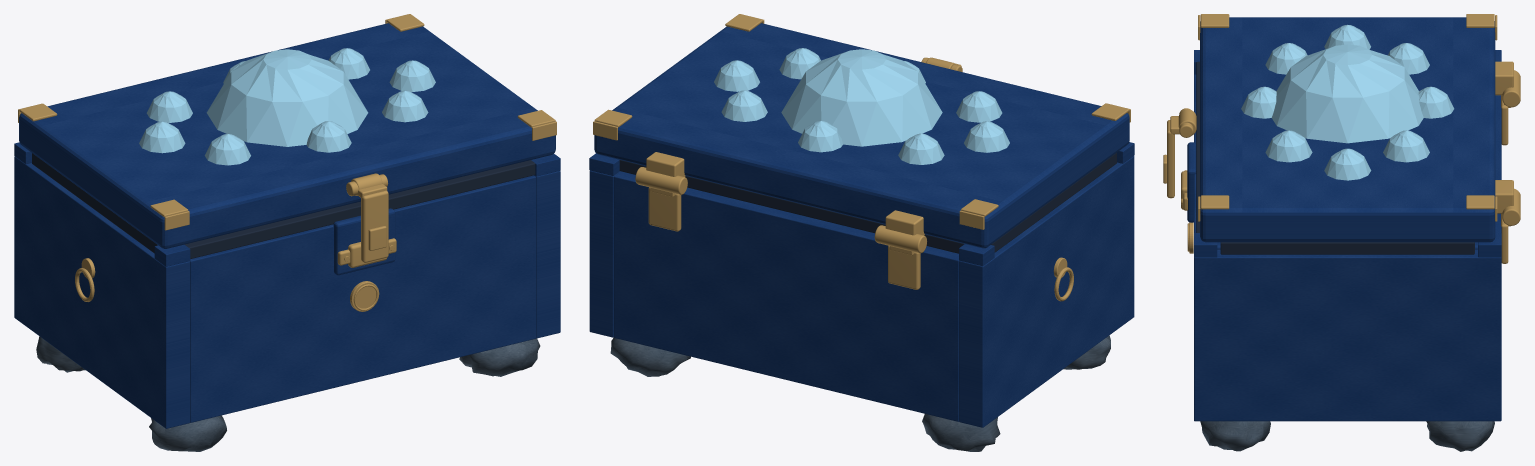
Rendered from czechia.glb.
3 views of the same model, side by side, from view 1: azimuth 30°, elevation 25°; view 2: azimuth 150°, elevation 25°; view 3: azimuth 270°, elevation 25° (orthographic).
Visible parts, largest first — view 1: Cobalt / front rear, Lid / polished slab, Cobalt / sides, Cut crystal / central rosette, Mineral seam / long, Cobalt / sides.001, Granite foot, Granite foot.002, Latch / lifting hasp, Cedar / clasp seat, Mineral seam / side, Cut crystal / satellite 3 (+9 smaller); view 2: Cobalt / front rear.001, Lid / polished slab, Cobalt / sides, Cut crystal / central rosette, Cobalt / sides.001, Mineral seam / long.001, Granite foot.001, Granite foot.003, Mineral seam / side, Hinge / fixed mount.001, Hinge / fixed mount, Cut crystal / satellite 5 (+13 smaller); view 3: Cobalt / sides.001, Lid / polished slab, Cut crystal / central rosette, Mineral seam / side.001, Granite foot.002, Granite foot.003, Cut crystal / satellite 0, Cut crystal / satellite 7, Cut crystal / satellite 1, Cut crystal / satellite 6, Cut crystal / satellite 2, Cut crystal / satellite 5 (+16 smaller).
Part boxes in pixels (bbox=[...]): Cobalt / front rear: bbox=[190, 175, 536, 422]; Lid / polished slab: bbox=[19, 23, 555, 248]; Cobalt / sides: bbox=[14, 156, 189, 428]; Cut crystal / central rosette: bbox=[206, 49, 368, 146]; Mineral seam / long: bbox=[184, 160, 535, 258]; Cobalt / sides.001: bbox=[534, 171, 560, 338]; Granite foot: bbox=[149, 415, 226, 451]; Granite foot.002: bbox=[459, 338, 540, 376]; Latch / lifting hasp: bbox=[361, 190, 388, 262]; Cedar / clasp seat: bbox=[333, 208, 395, 275]; Mineral seam / side: bbox=[32, 153, 157, 253]; Cut crystal / satellite 3: bbox=[146, 91, 192, 122]; Cobalt / front rear.001: bbox=[614, 171, 959, 421]; Lid / polished slab: bbox=[594, 23, 1129, 248]; Cobalt / sides: bbox=[959, 156, 1134, 427]; Cut crystal / central rosette: bbox=[781, 49, 942, 146]; Cobalt / sides.001: bbox=[589, 170, 620, 337]; Mineral seam / long.001: bbox=[619, 160, 964, 253]; Granite foot.001: bbox=[922, 414, 1000, 451]; Granite foot.003: bbox=[610, 337, 690, 376]; Mineral seam / side: bbox=[991, 153, 1116, 252]; Hinge / fixed mount.001: bbox=[648, 187, 681, 231]; Hinge / fixed mount: bbox=[888, 245, 920, 289]; Cut crystal / satellite 5: bbox=[956, 91, 1002, 122]; Cobalt / sides.001: bbox=[1194, 249, 1501, 421]; Lid / polished slab: bbox=[1200, 17, 1495, 242]; Cut crystal / central rosette: bbox=[1271, 44, 1423, 143]; Mineral seam / side.001: bbox=[1220, 242, 1474, 254]; Granite foot.002: bbox=[1200, 421, 1270, 451]; Granite foot.003: bbox=[1426, 421, 1494, 451]; Cut crystal / satellite 0: bbox=[1324, 148, 1371, 180]; Cut crystal / satellite 7: bbox=[1265, 130, 1312, 162]; Cut crystal / satellite 1: bbox=[1383, 130, 1429, 162]; Cut crystal / satellite 6: bbox=[1241, 86, 1276, 118]; Cut crystal / satellite 2: bbox=[1418, 86, 1454, 118]; Cut crystal / satellite 5: bbox=[1265, 43, 1307, 74].
Bounding box in the file's own units: 3.79 × 2.83 × 2.88.
Materials: 5 (2 with a texture image).
